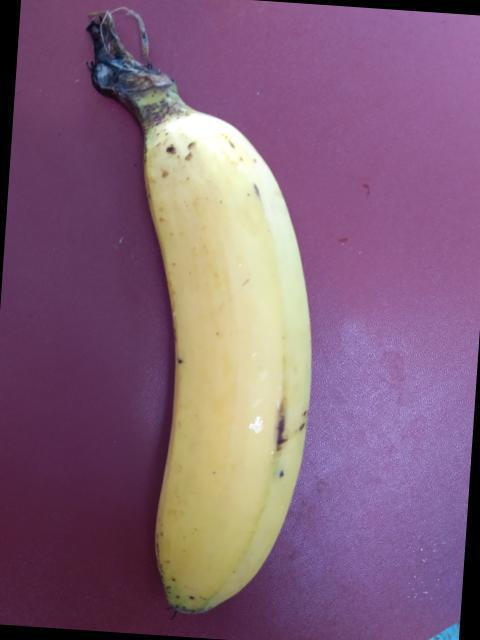freshripe: (126, 110, 340, 639)
